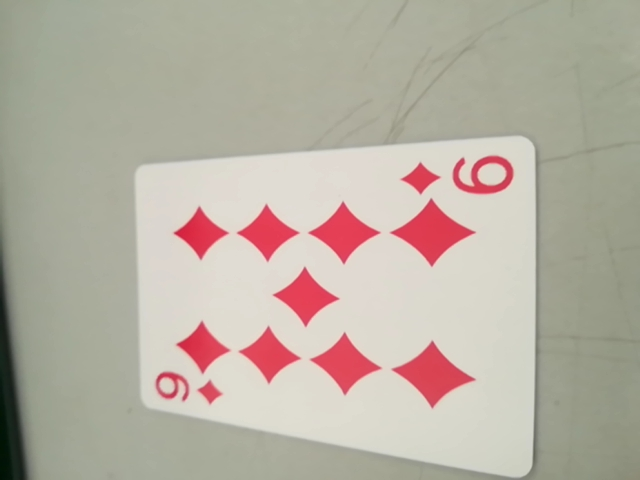fk 9: (399, 150, 518, 205), (148, 363, 230, 414)
